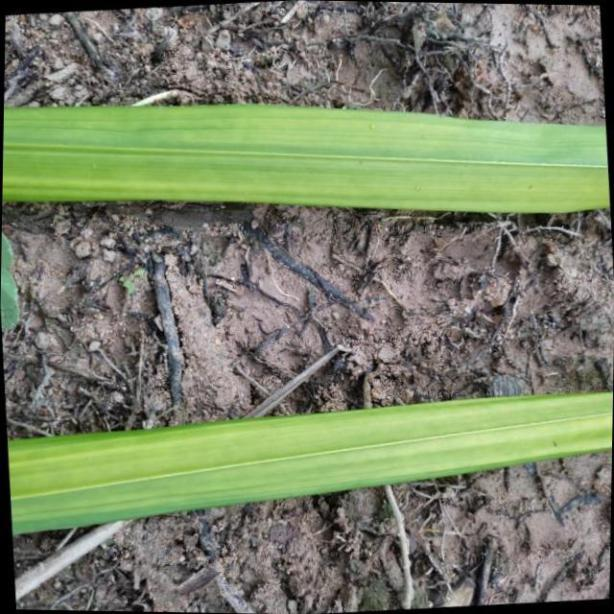nitrogen: (0, 390, 614, 537), (0, 101, 614, 216)
